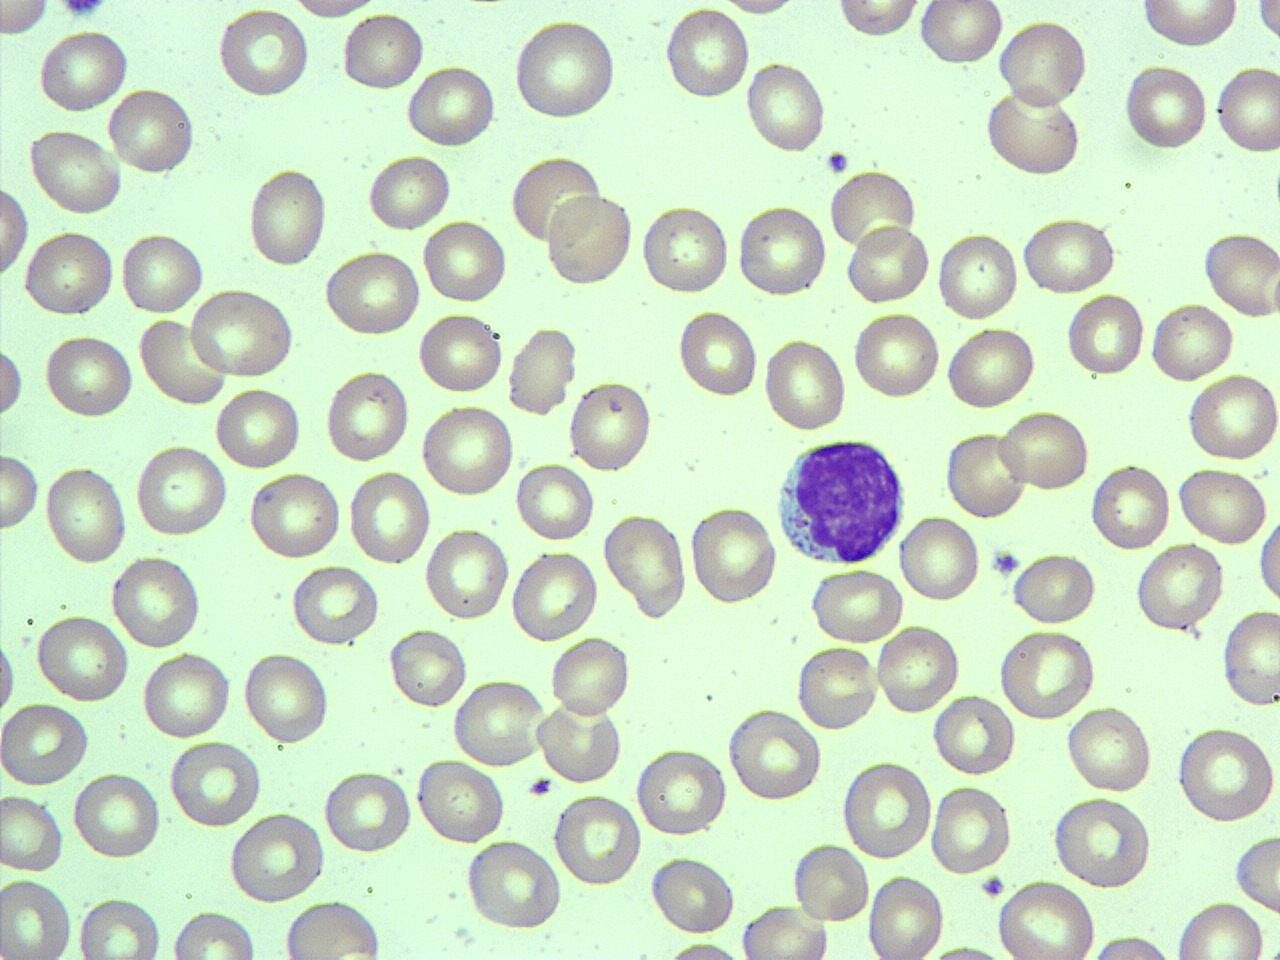Platelets: (988, 545, 1022, 579), (53, 1, 110, 21), (980, 873, 1008, 898), (825, 150, 851, 176)
RBC: (510, 15, 622, 124), (187, 286, 298, 380), (1173, 726, 1279, 824), (1051, 793, 1153, 890), (980, 86, 1084, 180), (842, 756, 934, 862), (688, 502, 780, 608), (604, 510, 690, 622), (417, 403, 516, 500), (227, 810, 328, 904), (997, 629, 1099, 722), (42, 461, 130, 568), (132, 443, 231, 538), (109, 551, 204, 650), (320, 249, 424, 339), (33, 611, 130, 707), (215, 6, 313, 101), (245, 469, 344, 563), (508, 152, 604, 248), (464, 838, 563, 931), (244, 164, 331, 269), (727, 706, 822, 802), (240, 649, 334, 746), (450, 677, 548, 770), (850, 307, 943, 404), (544, 190, 635, 289), (662, 3, 752, 103), (995, 17, 1089, 112), (105, 84, 199, 179), (168, 737, 264, 830), (1184, 372, 1280, 465), (632, 744, 729, 836), (736, 201, 828, 298), (136, 312, 230, 406), (140, 648, 234, 742), (322, 367, 411, 466), (567, 374, 655, 474), (762, 334, 848, 436), (35, 25, 131, 116), (21, 228, 117, 319), (25, 127, 124, 215), (422, 525, 510, 624), (346, 466, 432, 567), (1135, 540, 1227, 634), (41, 330, 136, 421), (510, 547, 600, 643), (942, 324, 1040, 412), (639, 202, 730, 296), (72, 768, 162, 863), (994, 878, 1098, 960), (824, 166, 920, 254), (934, 228, 1021, 325), (743, 58, 829, 156), (117, 228, 208, 320), (552, 793, 642, 886), (875, 622, 963, 717), (420, 216, 511, 307), (0, 700, 94, 788), (414, 758, 508, 846), (1120, 61, 1210, 152), (533, 697, 625, 786), (674, 306, 760, 401), (404, 63, 499, 149), (996, 410, 1092, 495), (1174, 463, 1272, 546), (1065, 704, 1155, 794), (322, 767, 414, 855), (1020, 214, 1118, 296), (928, 783, 1014, 876), (896, 513, 982, 605), (212, 384, 305, 469), (944, 428, 1028, 521), (1148, 298, 1236, 386), (289, 563, 381, 647), (416, 310, 504, 397), (794, 643, 880, 732), (338, 9, 428, 94), (808, 566, 906, 644), (864, 870, 948, 960), (1089, 460, 1171, 552), (548, 634, 634, 720), (366, 150, 454, 234), (1200, 228, 1280, 320), (932, 692, 1016, 778), (649, 854, 737, 936), (1064, 290, 1146, 378), (791, 838, 872, 926), (505, 323, 579, 419), (843, 225, 931, 304), (1011, 549, 1099, 627), (514, 460, 596, 543), (278, 898, 387, 960), (386, 626, 466, 710), (0, 873, 74, 960), (916, 0, 1006, 71), (1213, 62, 1279, 158), (1220, 606, 1280, 710), (74, 892, 163, 960), (1171, 900, 1271, 960), (1, 788, 67, 877), (737, 903, 830, 960), (1138, 0, 1240, 51), (168, 908, 262, 960), (1230, 831, 1280, 915), (833, 0, 923, 39), (0, 176, 31, 286), (0, 451, 41, 534), (1078, 932, 1180, 960), (1255, 509, 1279, 614), (1, 334, 25, 432), (1, 0, 54, 39), (1255, 0, 1279, 49)
WBC: (772, 432, 912, 568)
